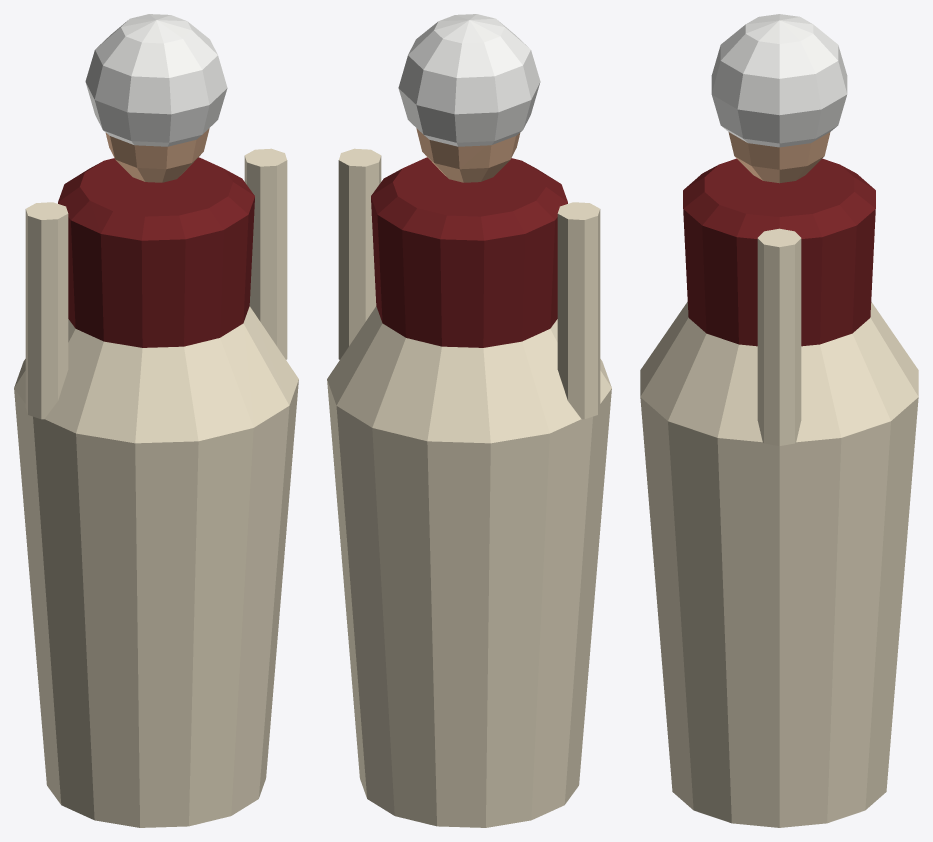
File: woman_character.obj
3 renders of one model, left to right at view 1: azimuth 30°, elevation 25°; view 2: azimuth 150°, elevation 25°; view 3: azimuth 270°, elevation 25°, orthographic.
Visible parts, largest first — view 1: woman_character; view 2: woman_character; view 3: woman_character.
Boxes of the visible parts, x1,y1,x2,y2 form: woman_character: [14, 14, 298, 827]; woman_character: [327, 14, 611, 827]; woman_character: [640, 14, 918, 827].
Size of the model in its own units: 0.54 by 1.53 by 0.507.
